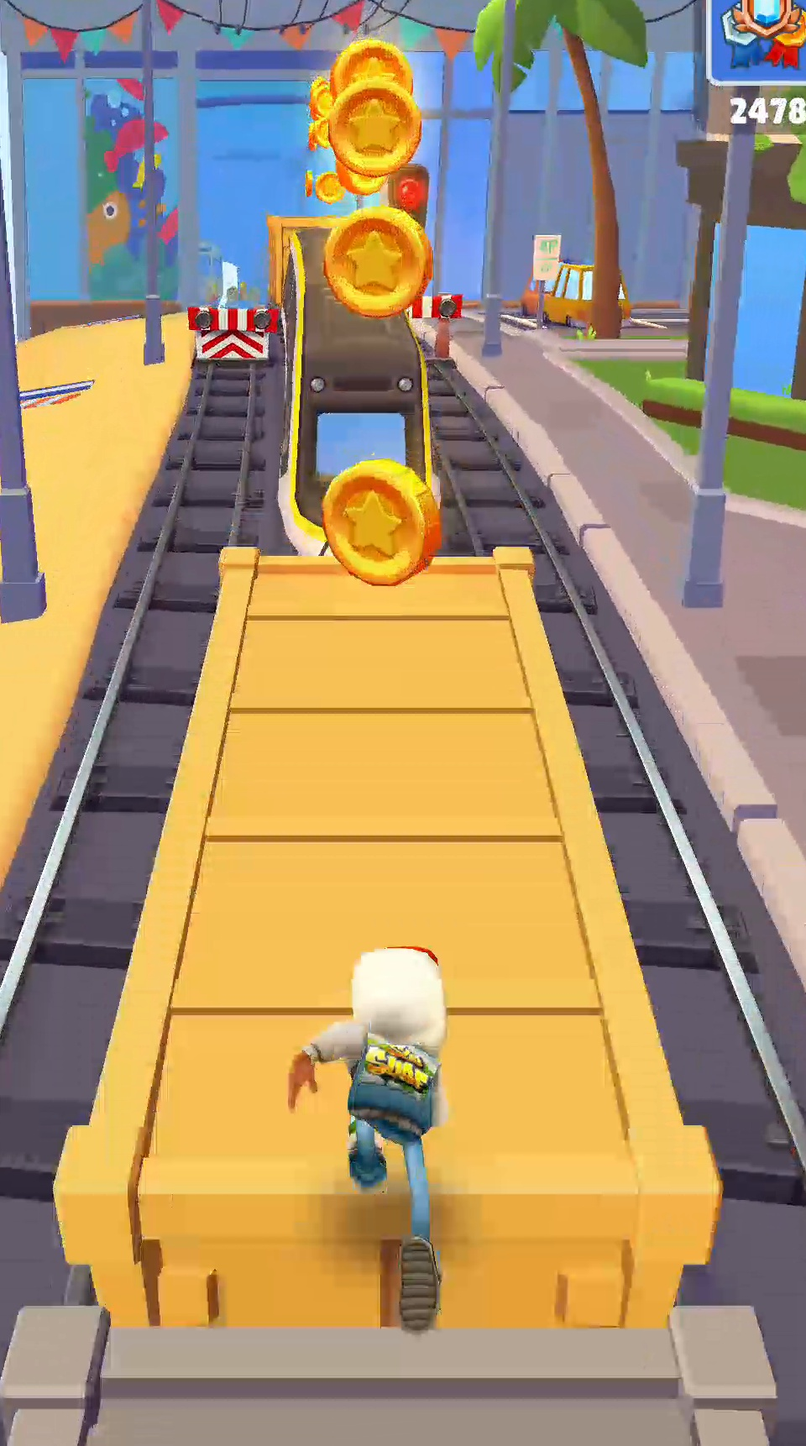blocker: (410, 294, 461, 359)
roll blocker: (188, 306, 278, 359)
train: (267, 217, 432, 554)
